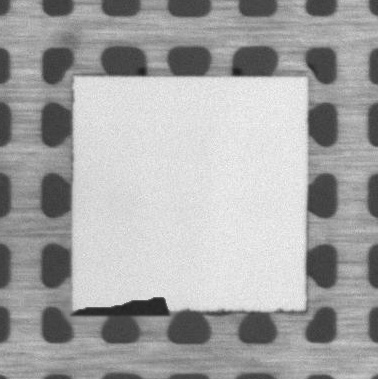DIE_BROKEN: (66, 294, 172, 318)
